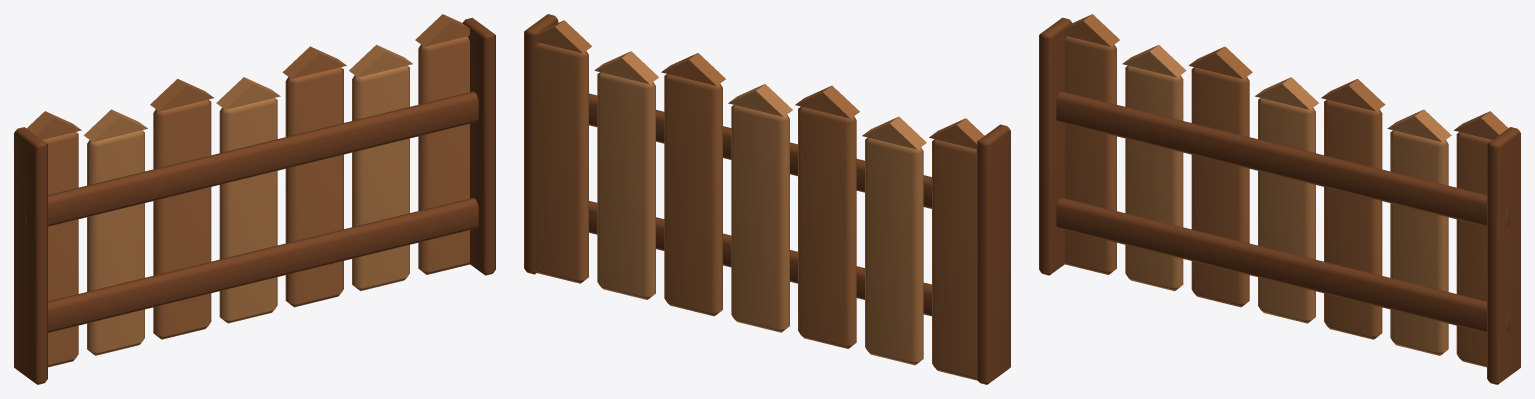
File: mint-prop1.glb
3 views of the same model, side by side, from view 1: azimuth 30°, elevation 25°; view 2: azimuth 150°, elevation 25°; view 3: azimuth 330°, elevation 25° (orthographic).
Parts seen in each view (by area): view 1: mint-prop1; view 2: mint-prop1; view 3: mint-prop1.
Boxes of the visible parts, x1,y1,x2,y2 form: mint-prop1: [14, 14, 495, 384]; mint-prop1: [524, 14, 1010, 384]; mint-prop1: [1039, 14, 1520, 384].
Bounding box in the file's own units: 2 × 1.04 × 0.18.
